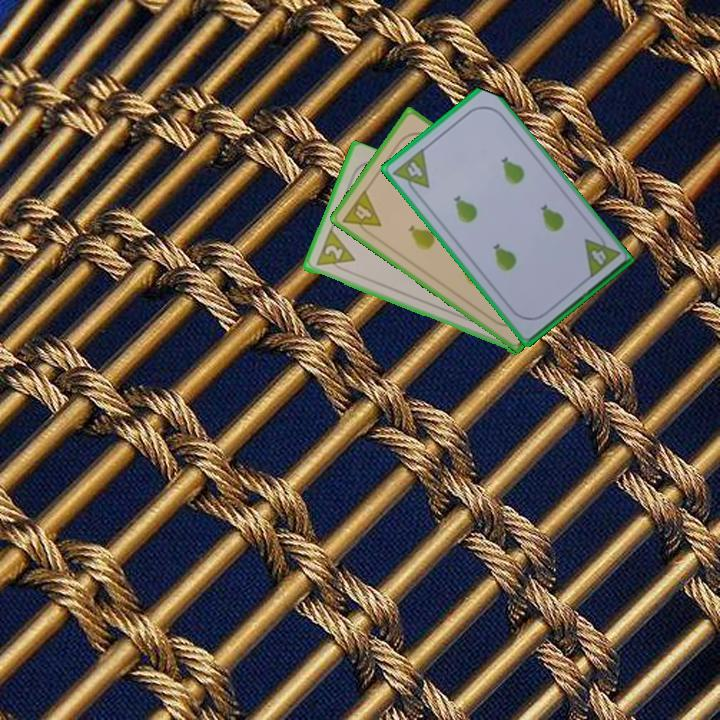2p: (312, 227, 357, 275)
4p: (338, 186, 384, 240), (389, 145, 432, 199), (581, 228, 622, 281)
